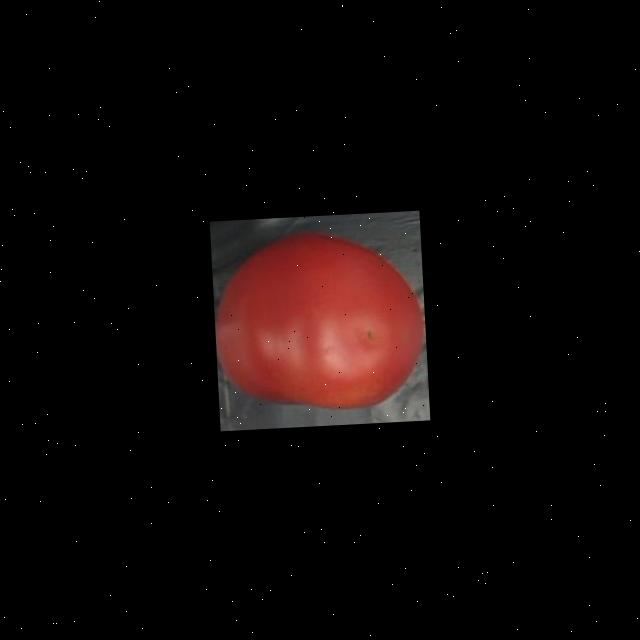tomato: (212, 223, 429, 418)
